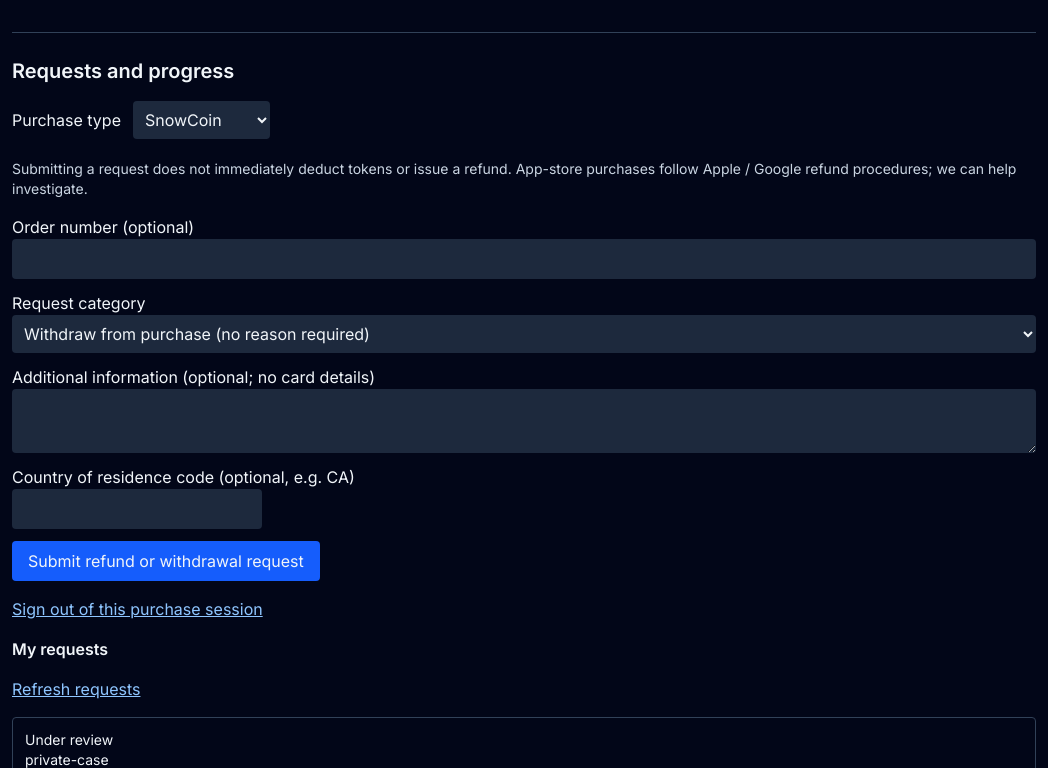
Test: Refund request intake › clears private request details and history when signing out
Type "private-order" into the field labelled "Order number (optional)" at (524, 259), box [12,239,1036,279]
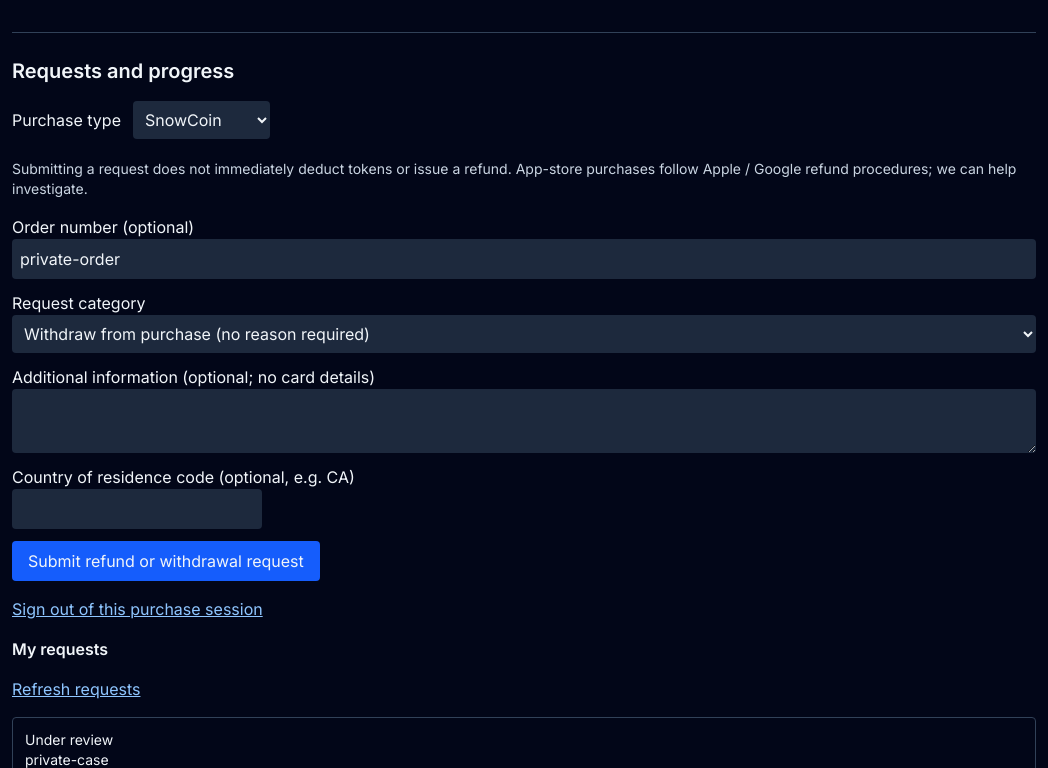
Click the button "Sign out of this purchase session" at (137, 609), box [12,597,263,621]
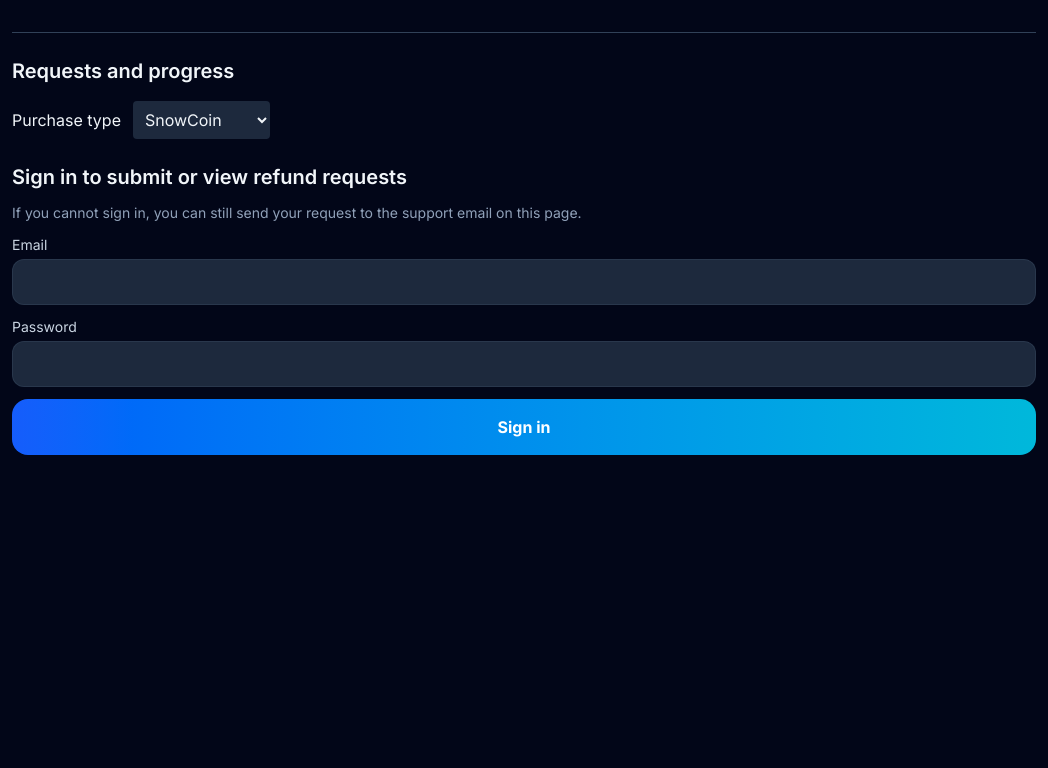
Expected: the field showing "private-order" is not shown
Result: the heading "Sign in to submit or view refund requests" is shown at [12,165,407,189]
